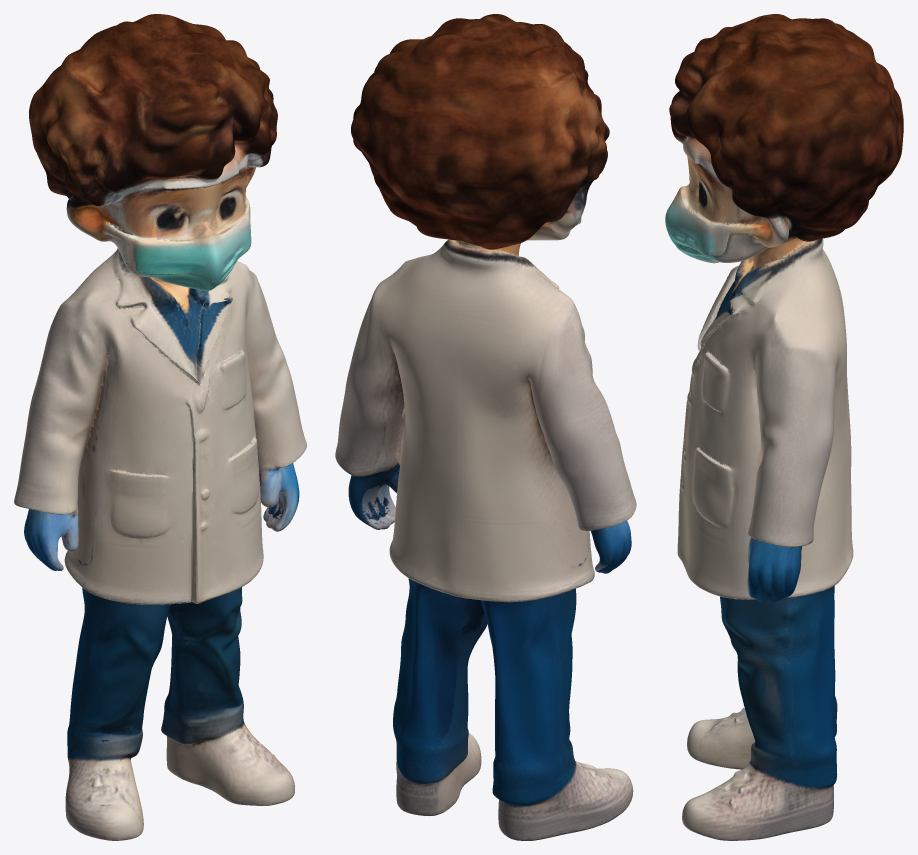
The model's file is base_basic_pbr.fbx.
3 views of the same model, side by side, from view 1: azimuth 30°, elevation 25°; view 2: azimuth 150°, elevation 25°; view 3: azimuth 270°, elevation 25° (orthographic). The views are drawn at different scales.
Parts seen in each view (by area): view 1: model; view 2: model; view 3: model.
Boxes of the visible parts, <box> form: model: <box>14,14,306,840</box>; model: <box>335,14,636,840</box>; model: <box>665,14,903,840</box>.
Bounding box in the file's own units: 75.07 × 190 × 53.75.
Materials: 1 (1 with a texture image).
